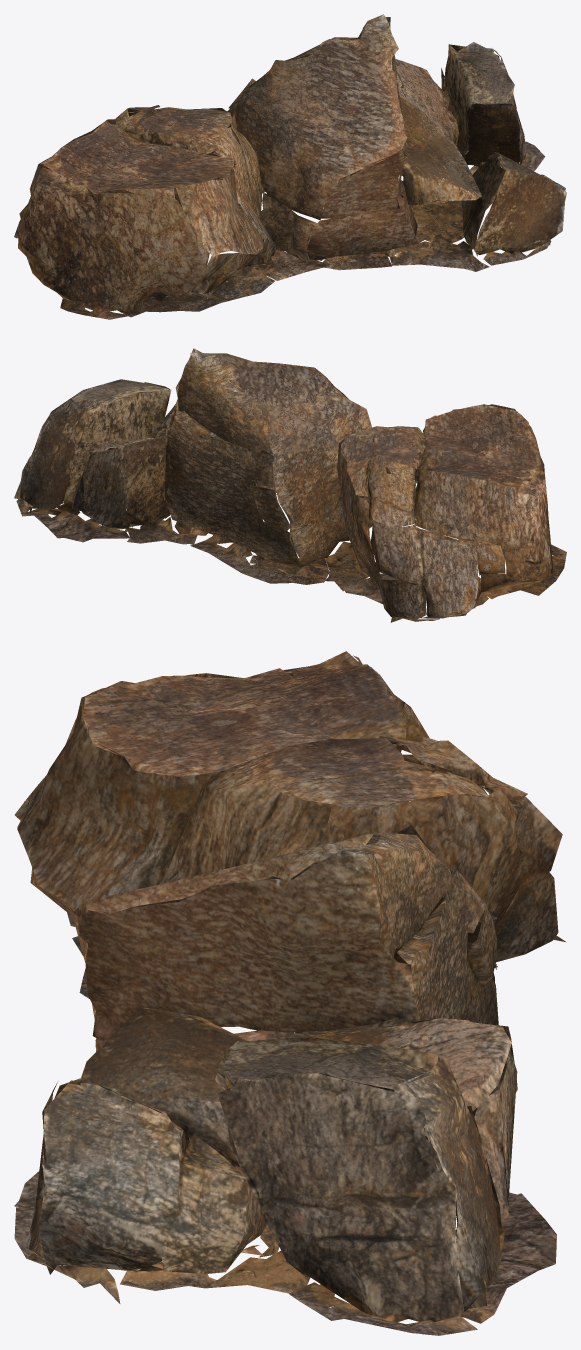
File: namaqualand_boulder_02_LOD2.fbx
The picture shows the model from 3 angles, top to bottom: view 1: azimuth 30°, elevation 25°; view 2: azimuth 150°, elevation 25°; view 3: azimuth 270°, elevation 25°; orthographic projection. The views are drawn at different scales.
Parts seen in each view (by area): view 1: namaqualand_boulder_02.001; view 2: namaqualand_boulder_02.001; view 3: namaqualand_boulder_02.001.
Boxes of the visible parts, <box> form: namaqualand_boulder_02.001: <box>14,14,566,319</box>; namaqualand_boulder_02.001: <box>14,348,566,622</box>; namaqualand_boulder_02.001: <box>14,651,566,1335</box>.
Size of the model in its own units: 2.51 by 0.8816 by 1.23.
Materials: 1 (1 with a texture image).
